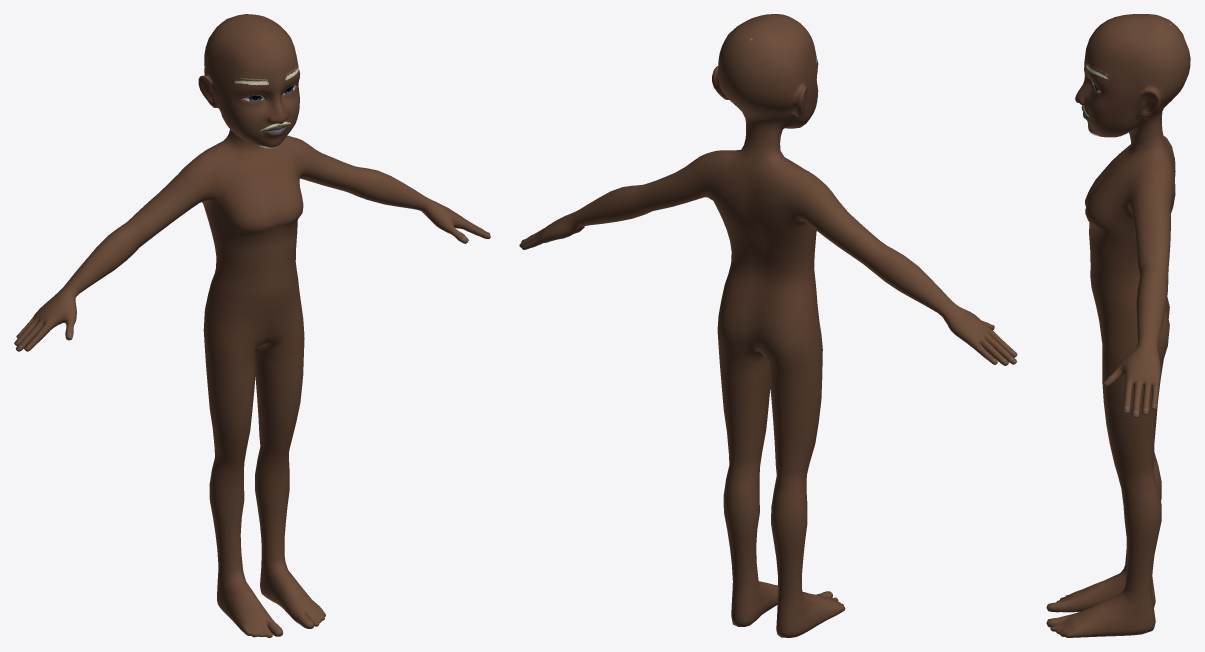
Rendered from frame_0092.glb.
3 renders of one model, left to right at view 1: azimuth 30°, elevation 25°; view 2: azimuth 150°, elevation 25°; view 3: azimuth 270°, elevation 25°, orthographic. The views are drawn at different scales.
Visible parts, largest first — view 1: frame_0092_head_geo; view 2: frame_0092_head_geo; view 3: frame_0092_head_geo.
Boxes of the visible parts, x1=… form: frame_0092_head_geo: x1=14, y1=14, x2=490, y2=637; frame_0092_head_geo: x1=519, y1=14, x2=1017, y2=637; frame_0092_head_geo: x1=1046, y1=14, x2=1190, y2=637.
Size of the model in its own units: 1.28 by 1.5 by 0.3253.
Materials: 3 (3 with a texture image).
